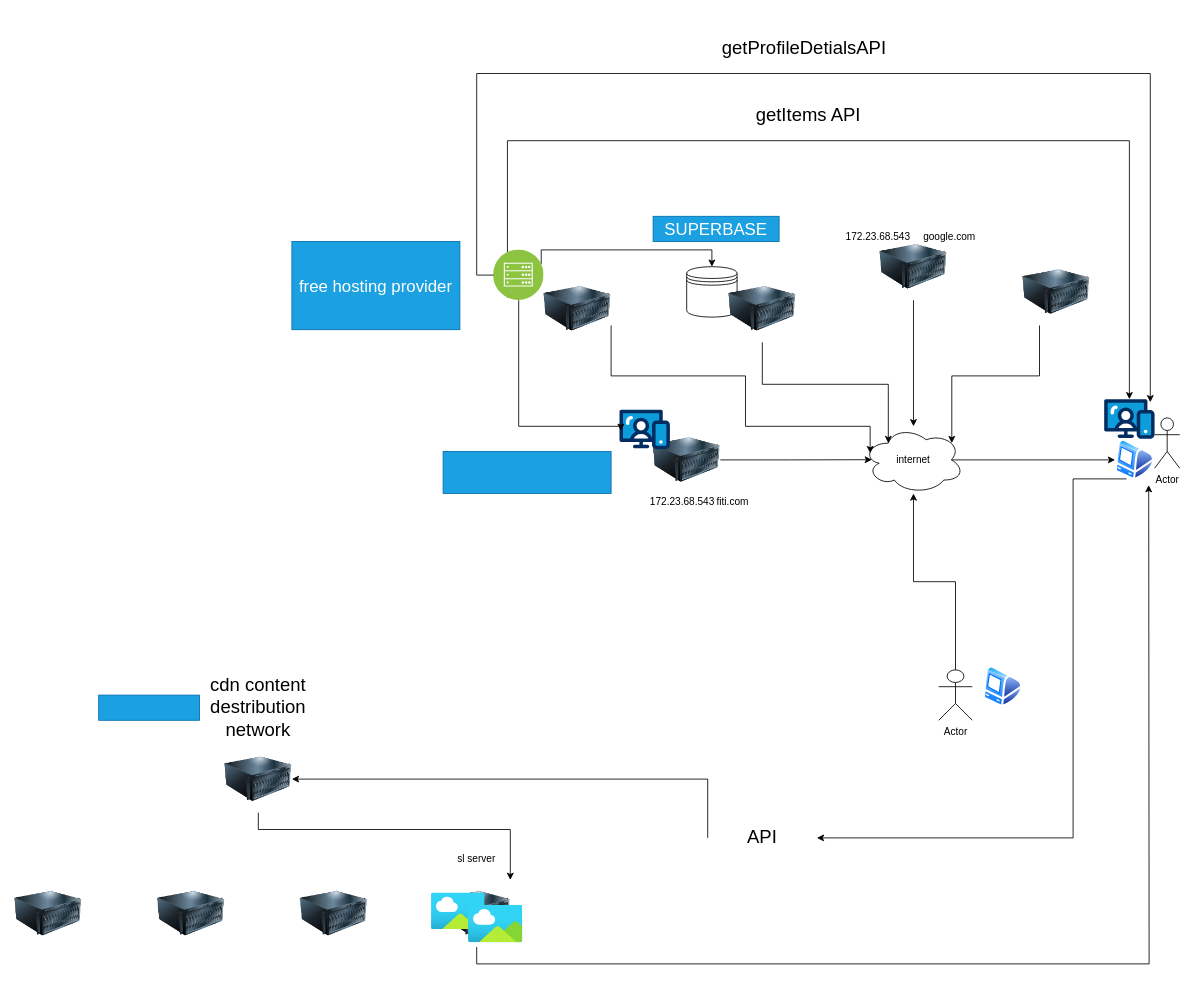
Some shapes in this 1194 by 985 pixel diagram are drawn without their labels. Here are the shapes that lost their labels. From the top down, the box of each, then its label:
(442, 451, 611, 494): vercel or any
(98, 694, 200, 720): cloudinary
